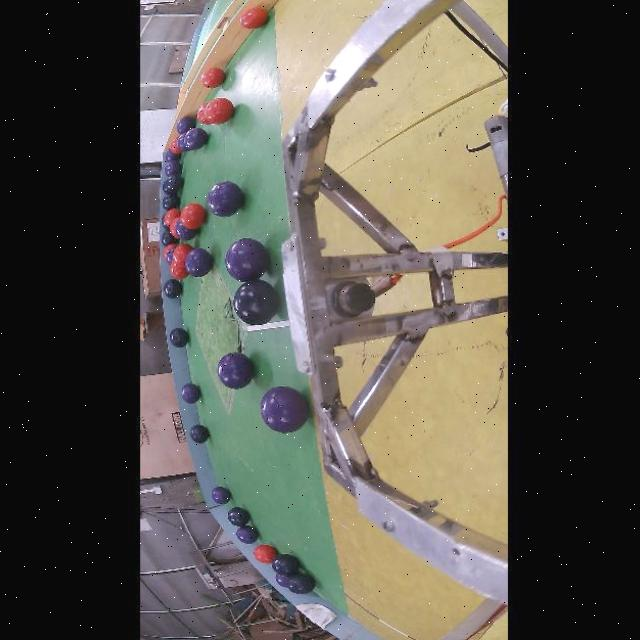B: (233, 280, 279, 326), (271, 554, 299, 575), (271, 554, 299, 575), (285, 574, 314, 594), (226, 507, 249, 526), (189, 424, 208, 443), (169, 328, 188, 347), (164, 280, 181, 299), (161, 194, 179, 211), (166, 175, 183, 193), (160, 230, 178, 246), (161, 180, 172, 195), (160, 216, 168, 230)
P: (259, 387, 308, 433), (225, 237, 268, 282), (216, 352, 253, 390), (207, 181, 243, 217), (184, 248, 212, 277), (184, 128, 207, 151), (174, 221, 198, 241), (235, 525, 258, 544), (180, 383, 199, 404), (175, 116, 194, 134), (211, 487, 230, 505), (176, 133, 190, 152), (164, 161, 181, 175), (164, 149, 180, 162), (275, 574, 288, 588), (165, 248, 173, 264)
R: (203, 98, 233, 124), (179, 203, 204, 230), (239, 9, 267, 29), (201, 67, 224, 88), (253, 544, 276, 565), (173, 244, 192, 267), (169, 259, 188, 280), (162, 208, 180, 227), (197, 103, 210, 124), (162, 244, 176, 260), (169, 217, 179, 239), (169, 136, 181, 154)
